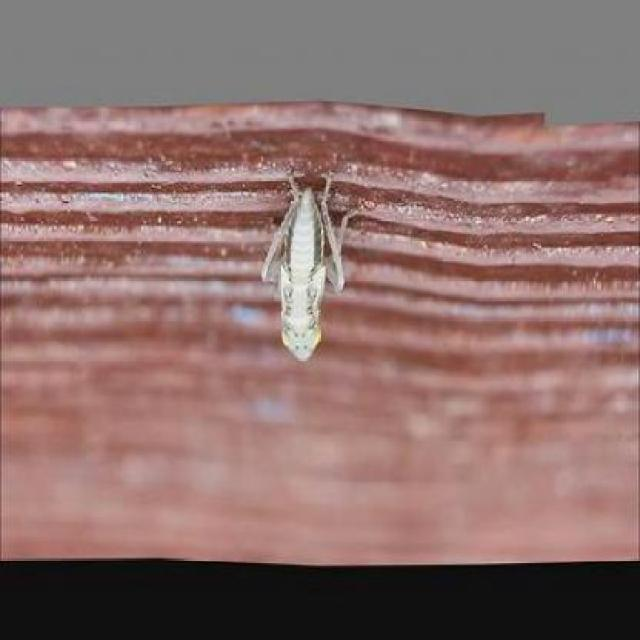green-leafhopper: (255, 169, 356, 362)
